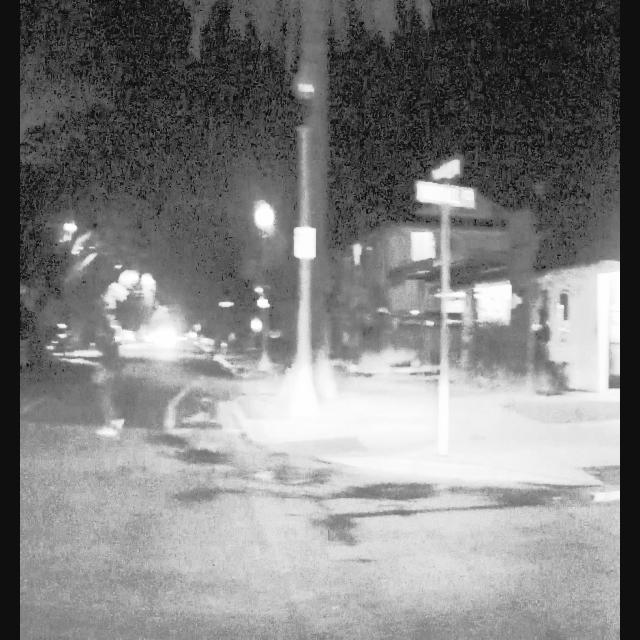Sign: (417, 160, 474, 209), (294, 228, 315, 258)
